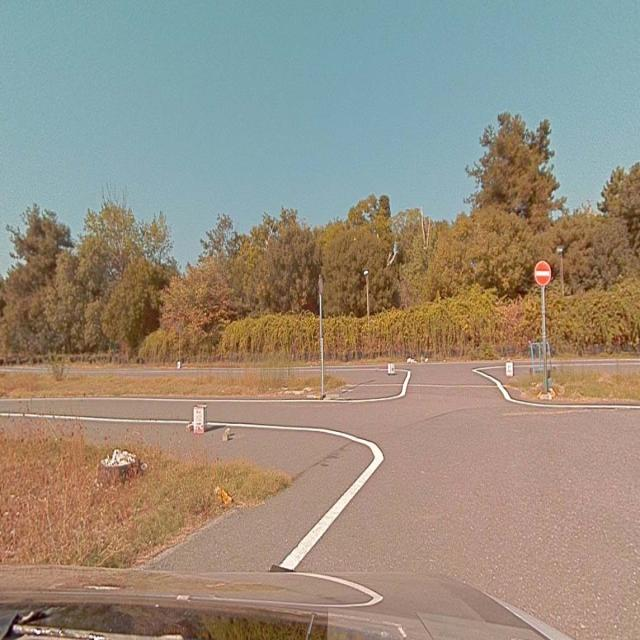girisyok: (535, 260, 552, 287)
